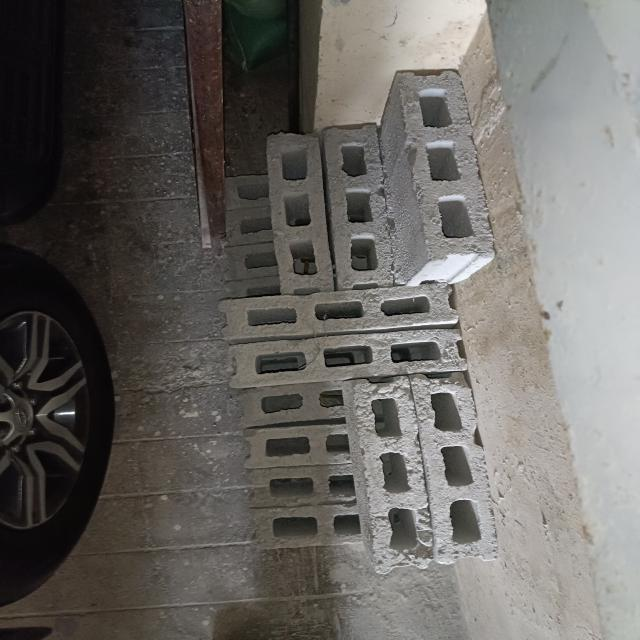Hollow blocks: (398, 79, 499, 268), (420, 375, 502, 552), (360, 383, 427, 564), (267, 137, 331, 295), (327, 131, 391, 289), (250, 339, 468, 376), (244, 293, 445, 328), (243, 390, 352, 422), (250, 427, 359, 459), (251, 468, 360, 500), (262, 510, 371, 542), (223, 176, 268, 207), (229, 214, 274, 245), (230, 248, 275, 279)
